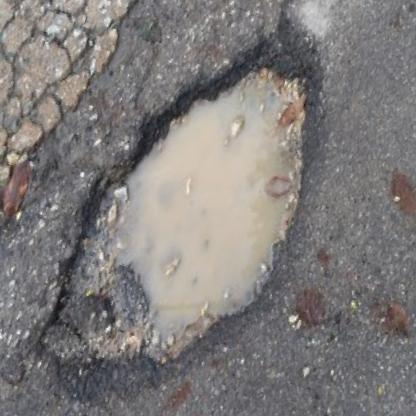pothole: (26, 0, 354, 416)
